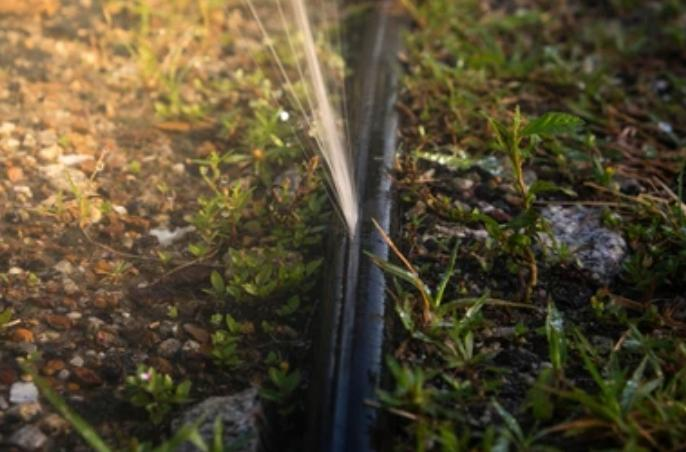pipe burst: (237, 0, 361, 238)
